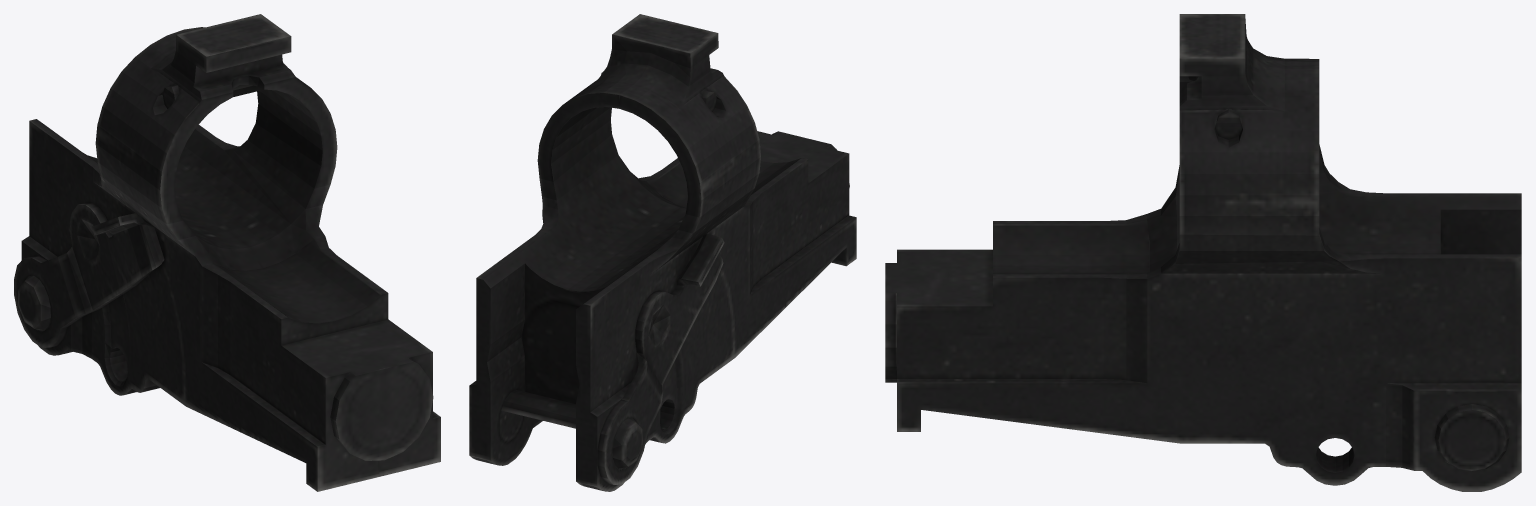
The picture shows the model from 3 angles, left to right: view 1: azimuth 30°, elevation 25°; view 2: azimuth 150°, elevation 25°; view 3: azimuth 270°, elevation 25°; orthographic projection. The views are drawn at different scales.
Parts seen in each view (by area): view 1: TW_634f05a21f9f536910079b56_PZ_Import; view 2: TW_634f05a21f9f536910079b56_PZ_Import; view 3: TW_634f05a21f9f536910079b56_PZ_Import.
Boxes of the visible parts, bbox=[...] form: TW_634f05a21f9f536910079b56_PZ_Import: bbox=[14, 14, 440, 491]; TW_634f05a21f9f536910079b56_PZ_Import: bbox=[469, 14, 856, 491]; TW_634f05a21f9f536910079b56_PZ_Import: bbox=[885, 14, 1521, 491].
Size of the model in its own units: 0.0133 by 0.0382 by 0.0277.
Materials: 1 (1 with a texture image).
